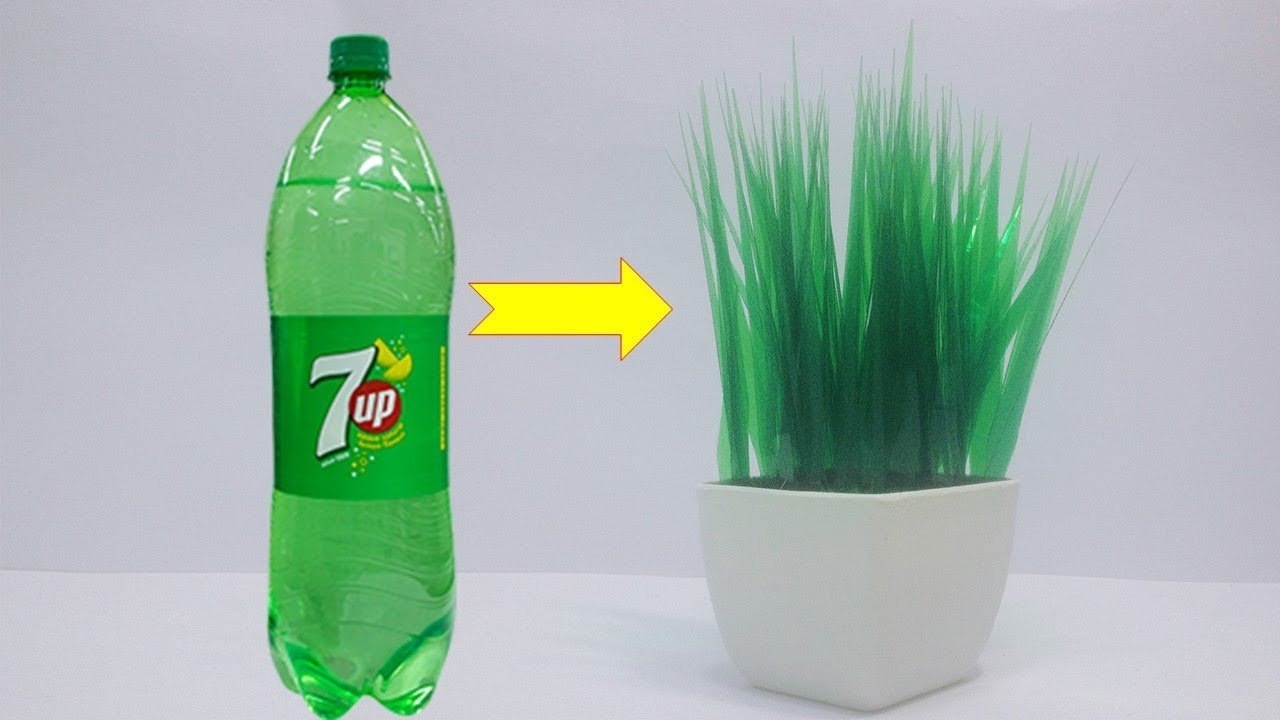plastic_bottle: (249, 22, 466, 720)
